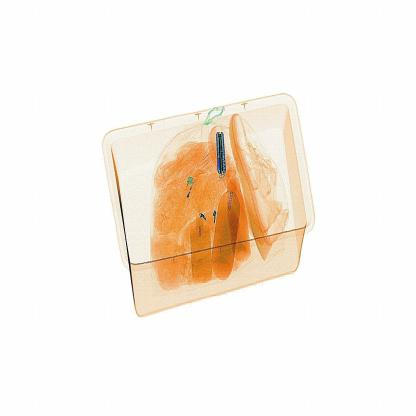scissors: (211, 126, 232, 184)
